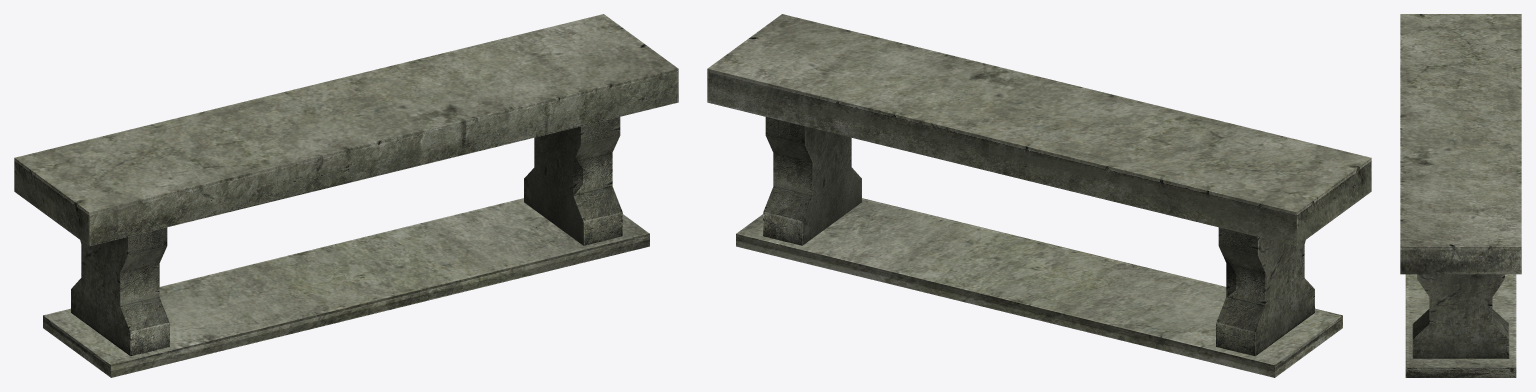
Rendered from Graveyard_Bench.dae.
3 renders of one model, left to right at view 1: azimuth 30°, elevation 25°; view 2: azimuth 150°, elevation 25°; view 3: azimuth 270°, elevation 25°, orthographic. The views are drawn at different scales.
Parts seen in each view (by area): view 1: Graveyard_Bench; view 2: Graveyard_Bench; view 3: Graveyard_Bench.
Part boxes in pixels (x1,y1,x2,y2): Graveyard_Bench: (14,14,678,377); Graveyard_Bench: (707,14,1371,377); Graveyard_Bench: (1400,14,1521,377).
Size of the model in its own units: 2.65 by 0.5828 by 0.7483.
